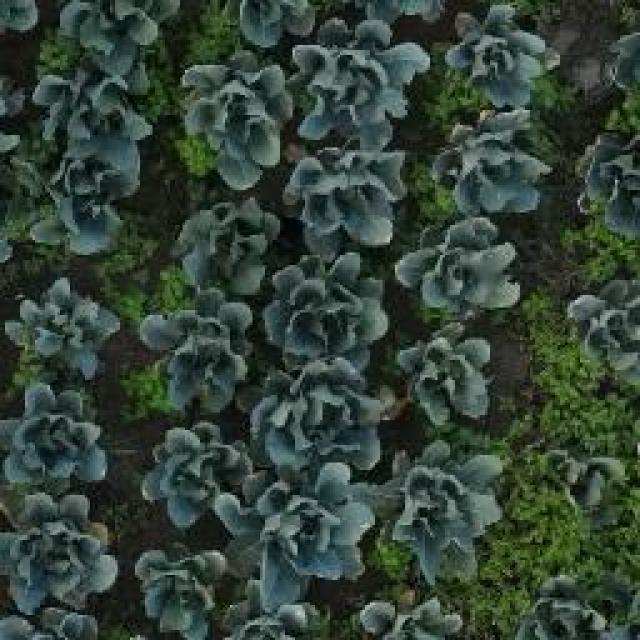cabbage: (246, 470, 376, 593), (292, 27, 426, 143), (257, 354, 388, 467), (395, 322, 505, 440), (271, 253, 388, 362), (184, 54, 290, 173), (288, 147, 405, 248), (0, 287, 126, 380), (450, 5, 557, 110), (0, 391, 111, 492), (382, 452, 493, 552), (0, 503, 113, 600), (143, 299, 251, 398), (442, 116, 544, 216), (174, 190, 280, 286), (36, 74, 156, 158), (138, 423, 244, 514), (411, 221, 516, 311), (130, 536, 224, 636), (35, 161, 142, 248), (65, 0, 159, 78), (522, 567, 615, 640), (544, 445, 633, 514)
